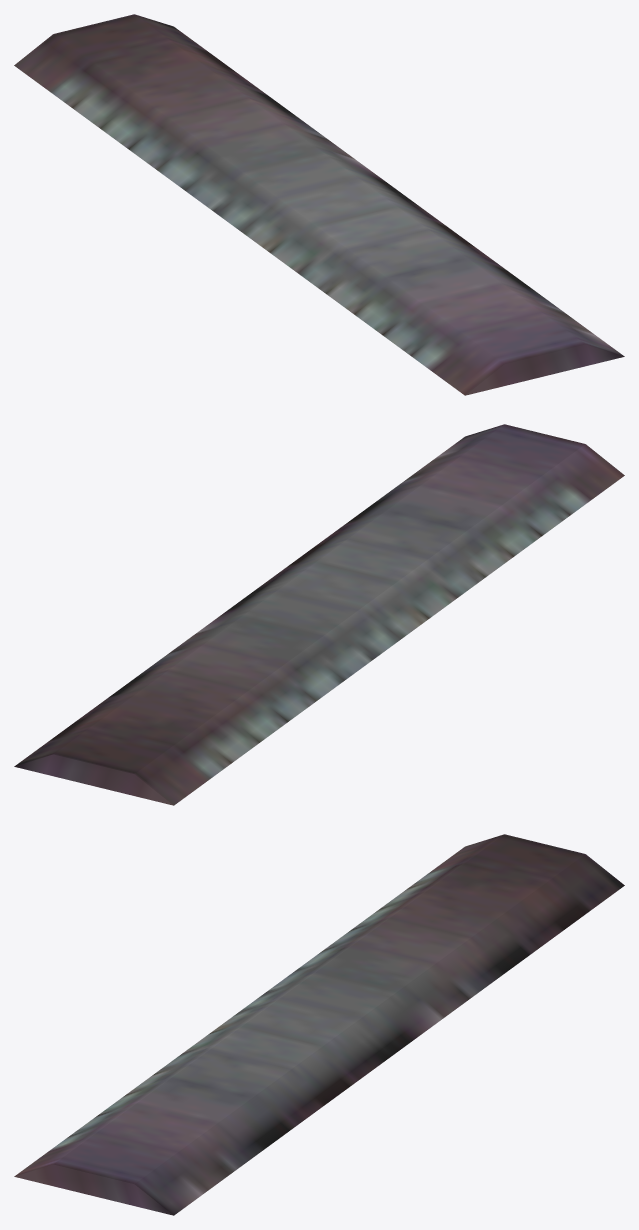
3 renders of one model, top to bottom at view 1: azimuth 30°, elevation 25°; view 2: azimuth 150°, elevation 25°; view 3: azimuth 330°, elevation 25°, orthographic.
Parts seen in each view (by area): view 1: Box01; view 2: Box01; view 3: Box01.
Part boxes in pixels (x1,y1,x2,y2): Box01: [14, 14, 624, 395]; Box01: [14, 424, 624, 805]; Box01: [14, 834, 624, 1215].
Bounding box in the file's own units: 126 × 16.48 × 615.
Materials: 1 (1 with a texture image).
